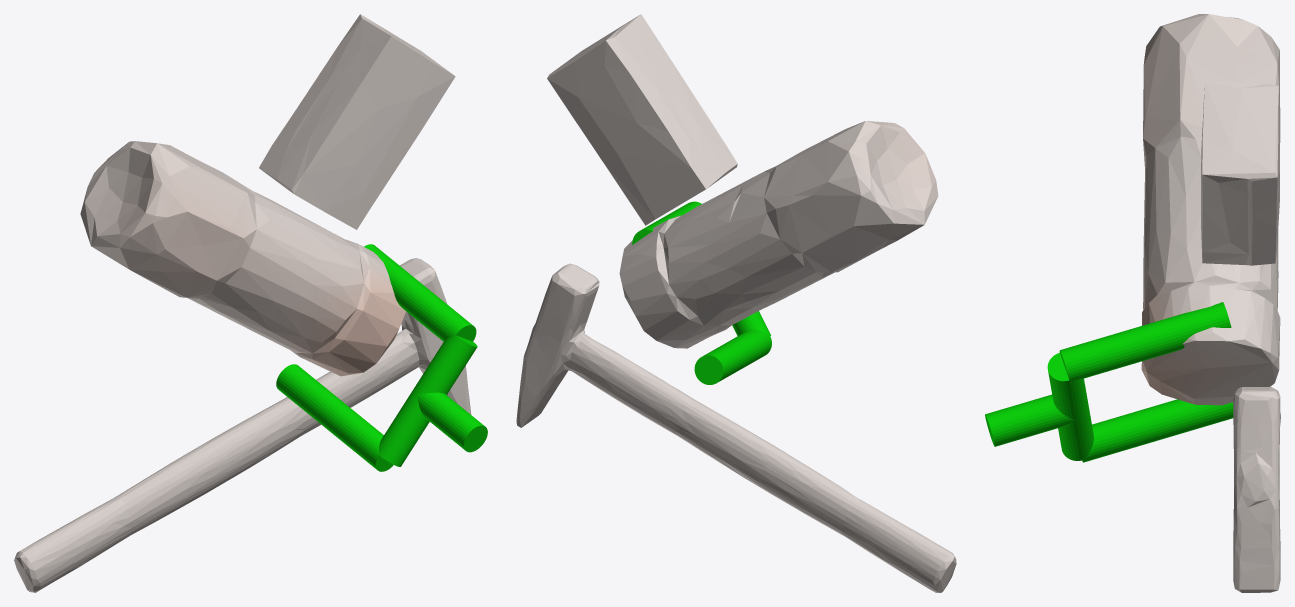
File: round_000_trial_002.obj
3 views of the same model, side by side, from view 1: azimuth 30°, elevation 25°; view 2: azimuth 150°, elevation 25°; view 3: azimuth 270°, elevation 25° (orthographic). The views are drawn at different scales.
Parts seen in each view (by area): view 1: geometry_0, geometry_1; view 2: geometry_0, geometry_1; view 3: geometry_0, geometry_1.
Boxes of the visible parts, x1,y1,x2,y2 form: geometry_0: [14, 14, 471, 592]; geometry_1: [276, 244, 487, 471]; geometry_0: [516, 14, 956, 592]; geometry_1: [632, 201, 771, 384]; geometry_0: [1141, 14, 1280, 592]; geometry_1: [985, 302, 1233, 462].
Size of the model in its own units: 0.1641 by 0.1742 by 0.0868.
